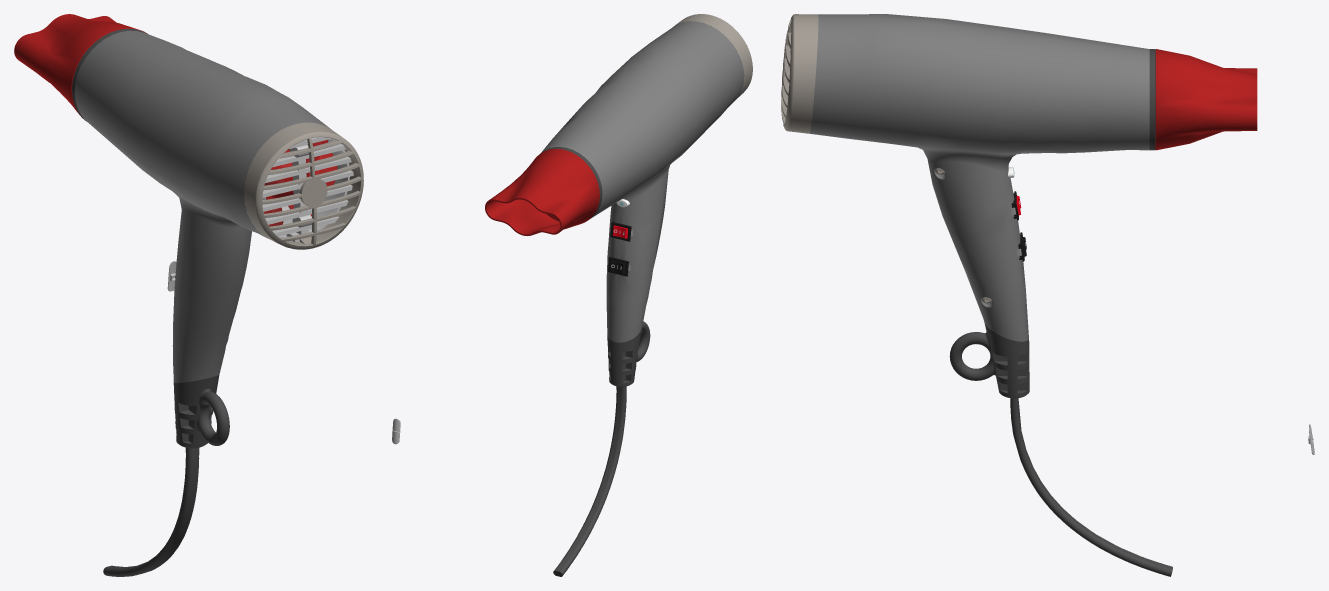
File: HairDryer.fbx
3 renders of one model, left to right at view 1: azimuth 30°, elevation 25°; view 2: azimuth 150°, elevation 25°; view 3: azimuth 270°, elevation 25°, orthographic. The views are drawn at different scales.
Visible parts, largest first — view 1: Outer_body_Left, Part1b3, Outer_body_Right, Part1c, Swert2, propeller, ring; view 2: Outer_body_Left, Swert2, Outer_body_Right, Part1c, Part1b3; view 3: Outer_body_Right, Swert2, Part1c, Part1b3, Outer_body_Left, ring.
Boxes of the visible parts, left/top/right/bottom form: Outer_body_Left: left=74, top=32, right=307, bottom=382; Part1b3: left=244, top=122, right=363, bottom=249; Outer_body_Right: left=122, top=30, right=353, bottom=377; Part1c: left=103, top=375, right=229, bottom=576; Swert2: left=14, top=14, right=147, bottom=121; propeller: left=263, top=139, right=337, bottom=226; ring: left=72, top=28, right=147, bottom=120; Outer_body_Left: left=567, top=22, right=744, bottom=342; Swert2: left=485, top=149, right=599, bottom=235; Outer_body_Right: left=540, top=21, right=700, bottom=341; Part1c: left=553, top=321, right=650, bottom=576; Part1b3: left=676, top=14, right=752, bottom=97; Outer_body_Right: left=810, top=19, right=1149, bottom=341; Swert2: left=1155, top=49, right=1257, bottom=150; Part1c: left=949, top=323, right=1172, bottom=576; Part1b3: left=781, top=14, right=818, bottom=133; Outer_body_Left: left=818, top=14, right=1149, bottom=53; ring: left=1149, top=49, right=1155, bottom=150.
Size of the model in its own units: 29.45 by 81.55 by 70.95.
